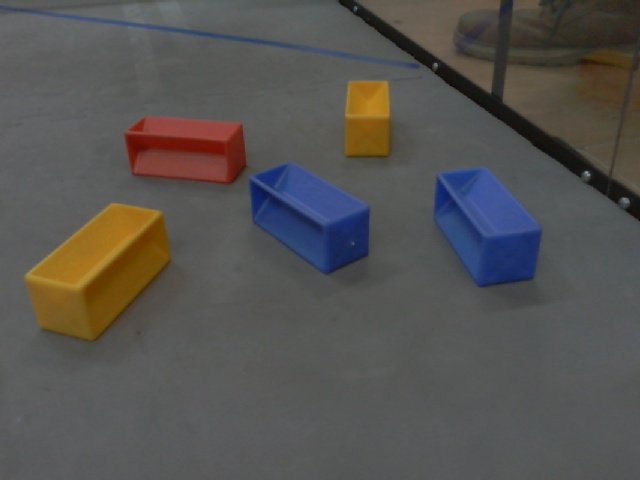BlueSample: (426, 163, 547, 290), (246, 160, 372, 275)
RedSample: (121, 111, 248, 185)
YellowSample: (24, 202, 174, 341), (339, 77, 394, 159)
